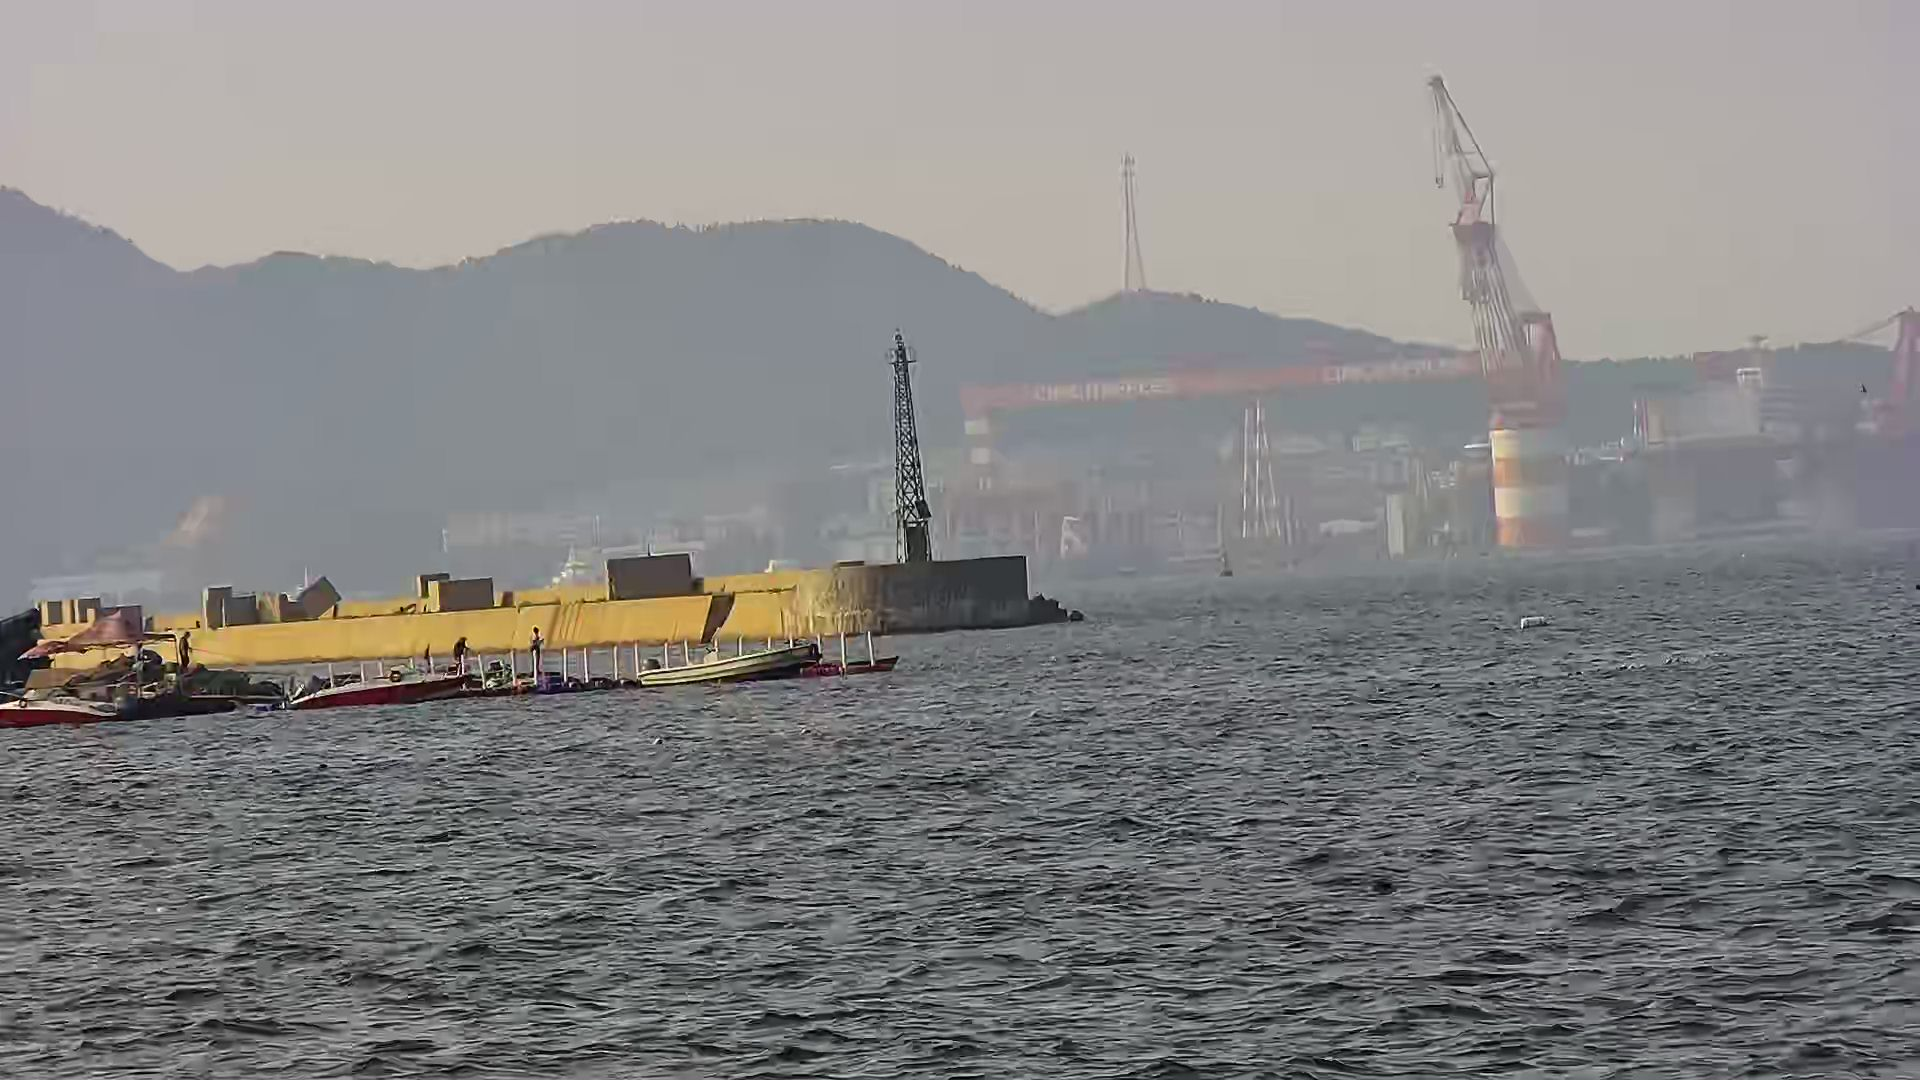harbor: (38, 535, 1114, 669)
ship: (626, 644, 829, 698)
